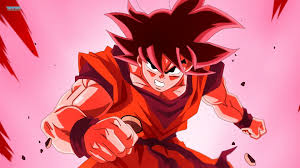Songoku: (135, 24, 196, 94)
